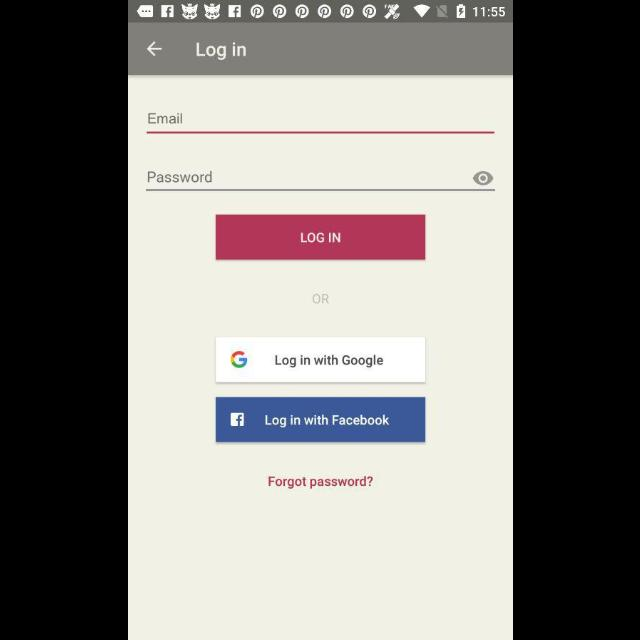icon: (472, 172, 492, 186), (146, 42, 162, 58)
input: (145, 170, 495, 192), (146, 113, 494, 135)
text: (268, 475, 372, 489), (196, 42, 246, 62), (147, 171, 211, 183), (148, 113, 182, 125), (312, 294, 328, 304)
textbutton: (215, 337, 425, 383), (215, 398, 425, 442), (215, 216, 425, 260)
toolbar: (128, 23, 512, 75)
uppertaskbar: (128, 1, 512, 23)
